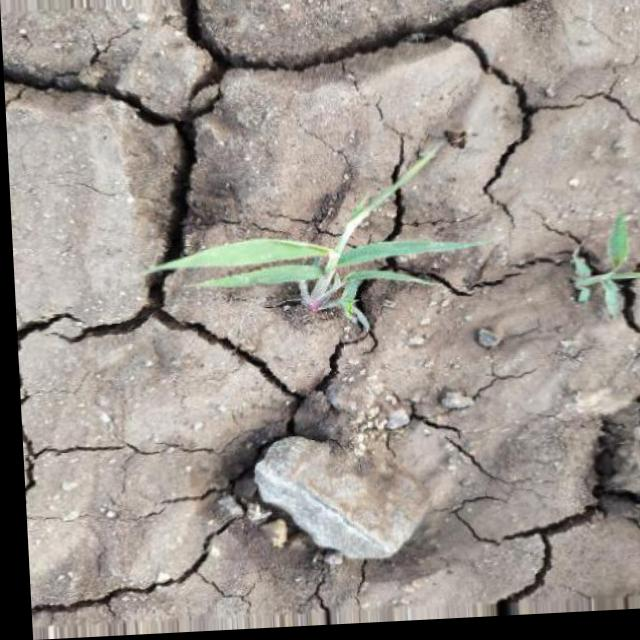crop: (118, 153, 499, 338)
